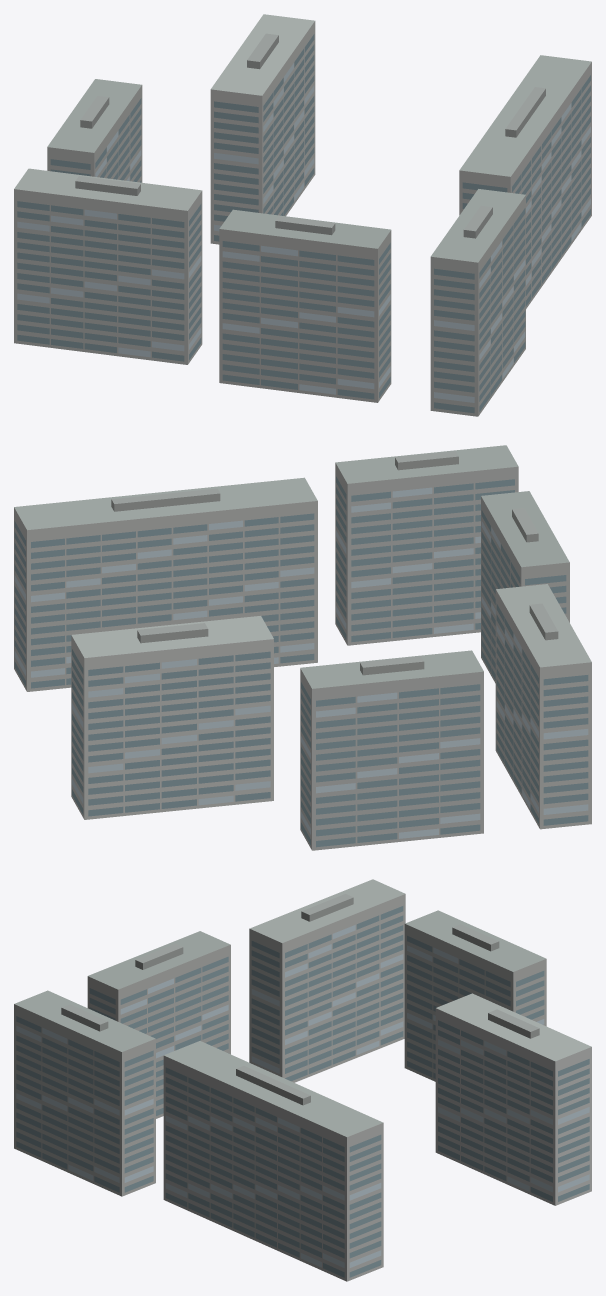
Rendered from apt-a13778306.glb.
3 views of the same model, one above another, from view 1: azimuth 30°, elevation 25°; view 2: azimuth 150°, elevation 25°; view 3: azimuth 270°, elevation 25° (orthographic). The views are drawn at different scales.
Visible parts, largest first — view 1: apt-a13778306; view 2: apt-a13778306; view 3: apt-a13778306.
Boxes of the visible parts, <box> form: apt-a13778306: <box>14,14,591,416</box>; apt-a13778306: <box>14,445,591,850</box>; apt-a13778306: <box>14,879,591,1281</box>.
Size of the model in its own units: 150 by 41 by 142.
